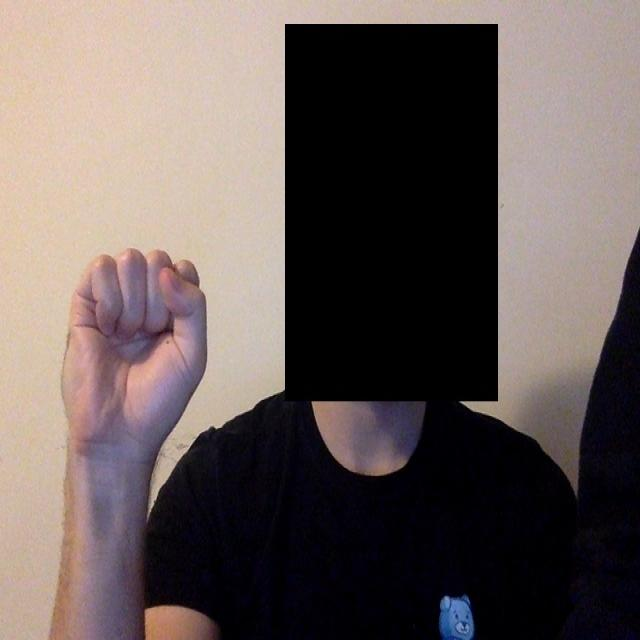S: (44, 239, 242, 455)
